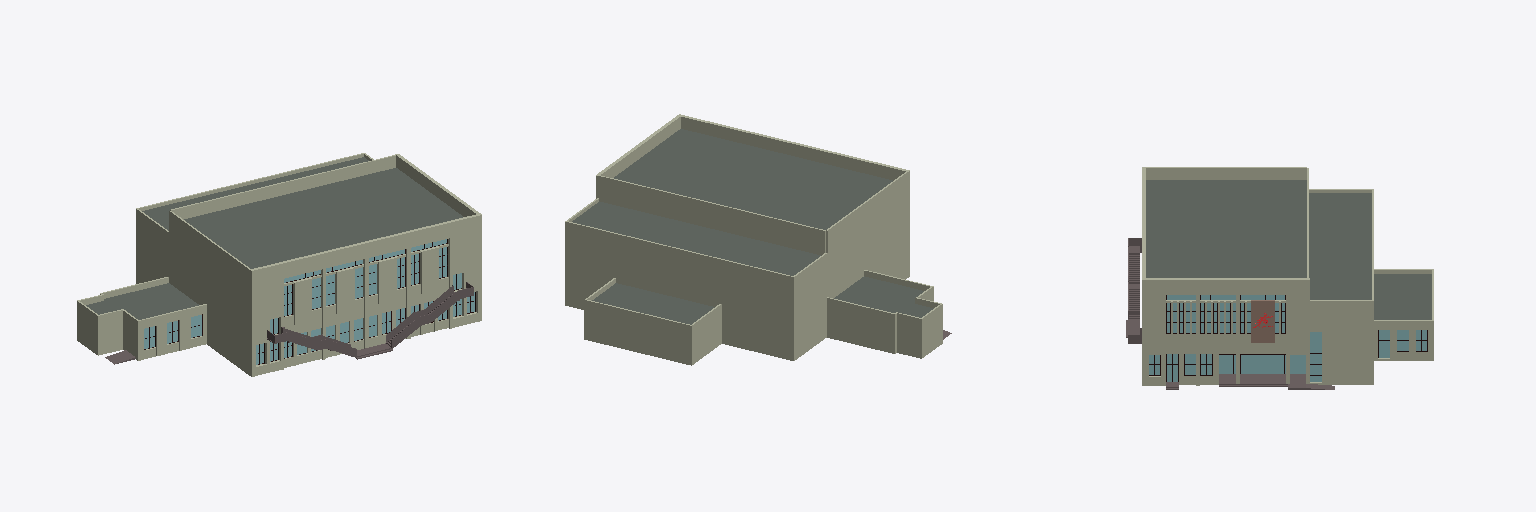
Rendered from library.obj.
3 renders of one model, left to right at view 1: azimuth 30°, elevation 25°; view 2: azimuth 150°, elevation 25°; view 3: azimuth 270°, elevation 25°, orthographic.
Parts seen in each view (by area): view 1: Line25, Rectangle11, Rectangle183, Rectangle77, Line02, Rectangle193, Line20, Rectangle189, Line01, Line23, Line04, Rectangle01 (+6 smaller); view 2: Line25, Rectangle190, Rectangle183, Line23, Rectangle193, Rectangle192, Rectangle182, Rectangle11, Rectangle189, Rectangle188, Line21, Line20 (+4 smaller); view 3: Line25, Line23, Line04, Line12, Line21, Line03, Rectangle183, Rectangle172, Rectangle163, Line14, Line26, Rectangle161 (+3 smaller).
Boxes of the visible parts, <box> form: Line25: <box>184,168,462,268</box>; Rectangle11: <box>250,214,481,376</box>; Rectangle183: <box>169,211,251,375</box>; Rectangle77: <box>293,246,438,324</box>; Line02: <box>284,277,448,365</box>; Rectangle193: <box>170,159,380,219</box>; Line20: <box>86,283,198,319</box>; Rectangle189: <box>136,208,168,283</box>; Line01: <box>137,304,206,360</box>; Line23: <box>142,157,368,230</box>; Line04: <box>395,154,481,216</box>; Rectangle01: <box>97,309,122,355</box>; Line25: <box>614,129,892,229</box>; Rectangle190: <box>616,233,792,360</box>; Rectangle183: <box>826,172,907,298</box>; Line23: <box>572,201,820,275</box>; Rectangle193: <box>615,179,825,255</box>; Rectangle192: <box>586,300,691,364</box>; Rectangle182: <box>565,221,616,309</box>; Rectangle11: <box>677,114,909,277</box>; Rectangle189: <box>792,253,827,360</box>; Rectangle188: <box>827,297,893,353</box>; Line21: <box>592,283,714,324</box>; Line20: <box>834,276,933,317</box>; Line25: <box>1146,180,1306,277</box>; Line23: <box>1309,193,1371,299</box>; Line04: <box>1142,278,1309,385</box>; Line12: <box>1310,323,1373,384</box>; Line21: <box>1374,274,1431,319</box>; Line03: <box>1166,327,1285,384</box>; Rectangle183: <box>1142,167,1306,179</box>; Rectangle172: <box>1310,300,1373,322</box>; Rectangle163: <box>1219,355,1305,373</box>; Line14: <box>1374,320,1433,360</box>; Line26: <box>1219,374,1305,389</box>; Rectangle161: <box>1252,301,1273,342</box>.
Size of the model in its own units: 47260 by 14400 by 37960.